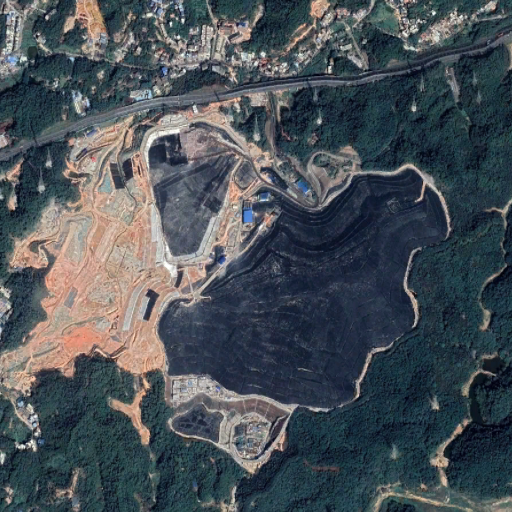lf: (145, 123, 450, 412)
